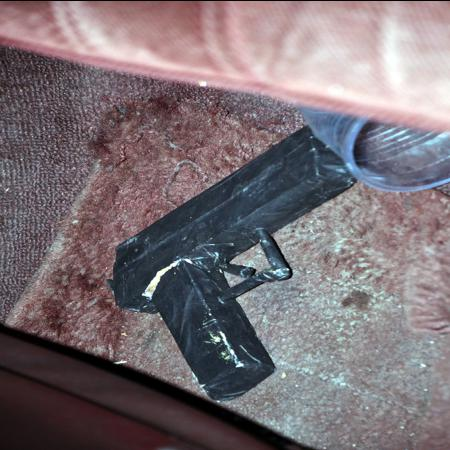Pistol: (102, 123, 358, 402)
